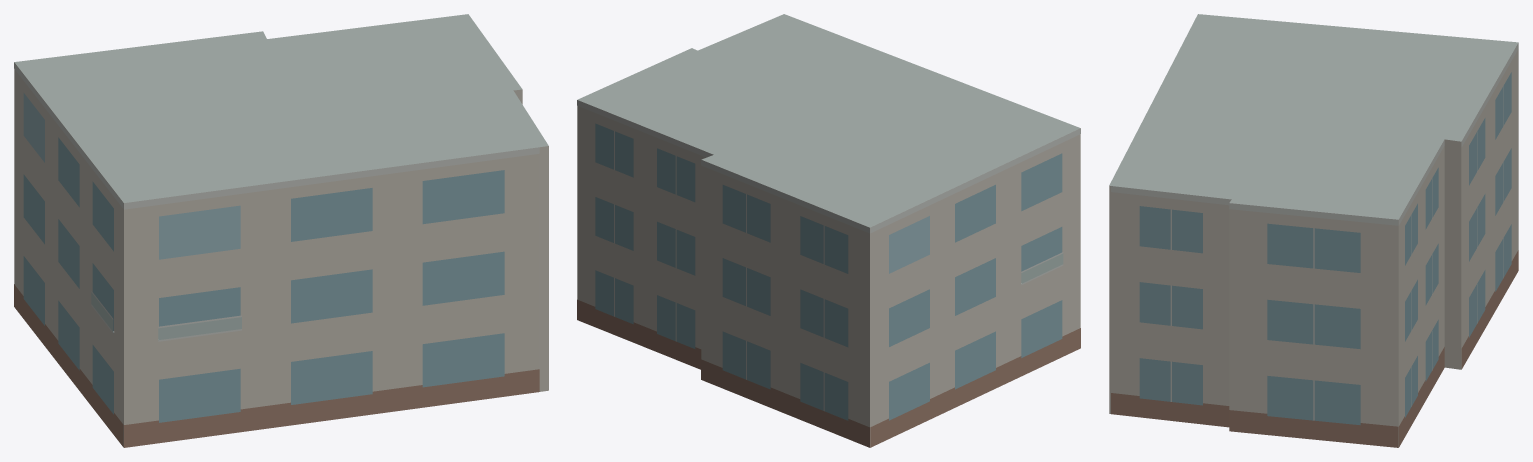
Rendered from survey-upis-32687233.glb.
3 renders of one model, left to right at view 1: azimuth 30°, elevation 25°; view 2: azimuth 150°, elevation 25°; view 3: azimuth 270°, elevation 25°, orthographic. The views are drawn at different scales.
Parts seen in each view (by area): view 1: survey-upis-32687233.tmp; view 2: survey-upis-32687233.tmp; view 3: survey-upis-32687233.tmp.
Part boxes in pixels (bbox=[...]): survey-upis-32687233.tmp: bbox=[14, 14, 548, 447]; survey-upis-32687233.tmp: bbox=[577, 14, 1080, 447]; survey-upis-32687233.tmp: bbox=[1109, 14, 1518, 447].
Size of the model in its own units: 17.7 by 9.15 by 14.89.
